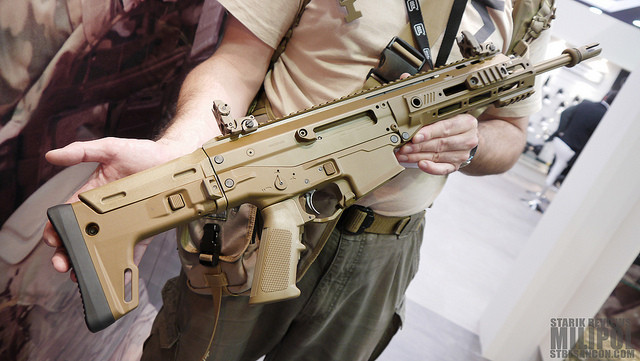Rifle: (44, 32, 604, 332)
